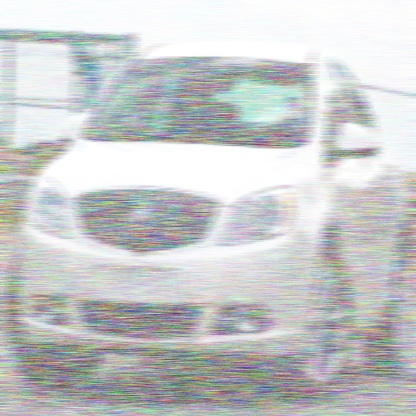Vehicle: (4, 42, 410, 404)
